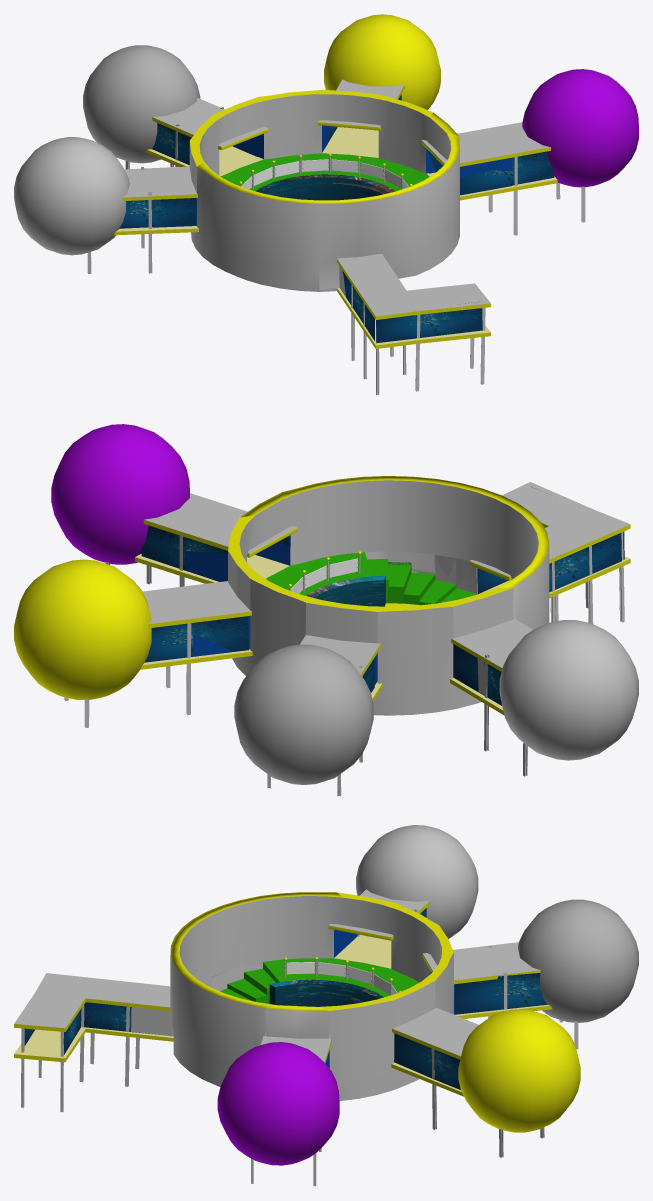
3 renders of one model, top to bottom at view 1: azimuth 30°, elevation 25°; view 2: azimuth 150°, elevation 25°; view 3: azimuth 270°, elevation 25°, orthographic. The views are drawn at different scales.
Parts seen in each view (by area): view 1: polySurface61, GameroomSpheres, pasted__pasted__pCube4, TunnelGlass, pasted__pasted__pCube6, pasted__pasted__polySurface804_museumenvironment_group2_poly, pasted__polySurface804_museumenvironment_group2_polySurface9, Railing23; view 2: GameroomSpheres, polySurface61, pasted__pasted__pCube4, TunnelGlass, pasted__pasted__pCube6, pasted__pasted__polySurface804_museumenvironment_group2_poly, pasted__polySurface804_museumenvironment_group2_polySurface9, Railing23; view 3: GameroomSpheres, polySurface61, pasted__pasted__pCube4, TunnelGlass, pasted__pasted__pCube6, pasted__pasted__polySurface804_museumenvironment_group2_poly, pasted__polySurface804_museumenvironment_group2_polySurface9, Railing23.
Boxes of the visible parts, box(x1,y1,x2,y2) form: polySurface61: box(153, 89, 512, 296); GameroomSpheres: box(14, 14, 638, 255); pasted__pasted__pCube4: box(122, 79, 550, 319); TunnelGlass: box(119, 94, 554, 343); pasted__pasted__pCube6: box(114, 127, 557, 348); pasted__pasted__polySurface804_museumenvironment_group2_poly: box(87, 107, 585, 394); pasted__polySurface804_museumenvironment_group2_polySurface9: box(255, 174, 395, 200); Railing23: box(239, 153, 412, 189); GameroomSpheres: box(14, 424, 638, 784); polySurface61: box(185, 476, 549, 715); pasted__pasted__pCube4: box(143, 482, 630, 676); TunnelGlass: box(141, 486, 624, 705); pasted__pasted__pCube6: box(135, 554, 630, 714); pasted__pasted__polySurface804_museumenvironment_group2_poly: box(64, 532, 624, 796); pasted__polySurface804_museumenvironment_group2_polySurface9: box(306, 575, 385, 606); Railing23: box(288, 551, 361, 593); GameroomSpheres: box(217, 825, 638, 1165); polySurface61: box(131, 892, 454, 1101); pasted__pasted__pCube4: box(14, 889, 540, 1063); TunnelGlass: box(24, 908, 547, 1089); pasted__pasted__pCube6: box(14, 934, 552, 1096); pasted__pasted__polySurface804_museumenvironment_group2_poly: box(21, 909, 578, 1186); pasted__polySurface804_museumenvironment_group2_polySurface9: box(269, 979, 383, 1006); Railing23: box(284, 957, 400, 995).
Size of the model in its own units: 1688 by 491 by 1610.
